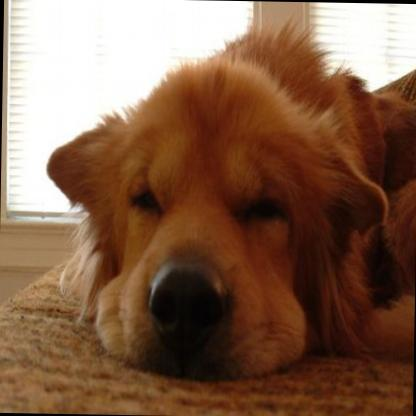chow: (41, 13, 416, 382)
